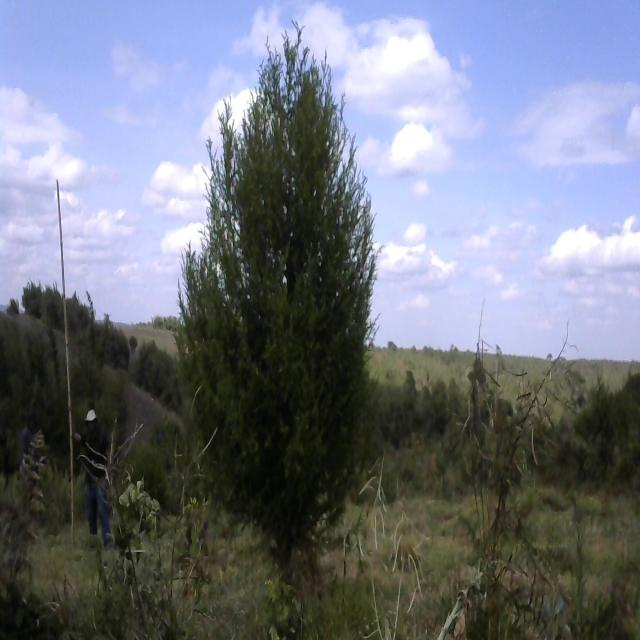Juniperus procesera: (172, 20, 386, 574)
